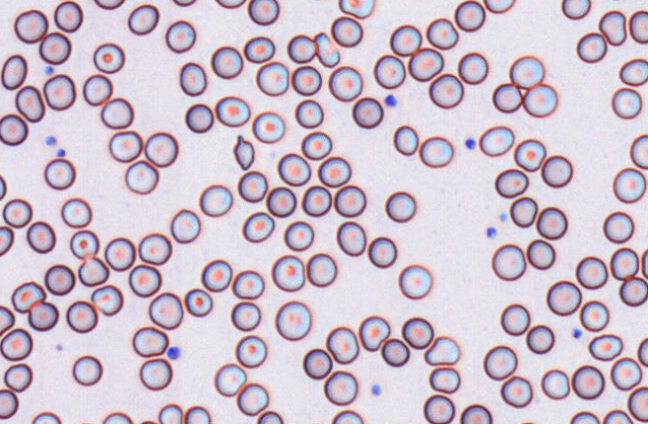PLT: (383, 93, 398, 109), (43, 132, 58, 147), (484, 224, 498, 239), (167, 346, 182, 360), (371, 382, 383, 398), (464, 137, 477, 151), (572, 327, 582, 338), (56, 149, 66, 159), (43, 67, 55, 75)
RBC: (275, 300, 311, 340), (148, 291, 183, 329), (491, 243, 526, 280), (271, 254, 305, 291), (42, 73, 76, 110), (326, 326, 359, 364), (124, 159, 159, 194), (546, 280, 581, 315), (428, 73, 463, 108), (483, 344, 517, 380), (612, 167, 646, 203), (407, 47, 443, 81), (144, 131, 178, 167), (328, 65, 362, 101), (323, 370, 357, 405), (398, 264, 432, 299), (13, 9, 48, 43), (522, 83, 557, 117), (255, 61, 289, 96), (277, 152, 311, 186), (571, 364, 604, 399), (509, 55, 544, 88), (358, 315, 390, 351), (214, 95, 250, 127), (575, 255, 608, 289), (38, 31, 71, 65), (128, 263, 161, 297), (210, 45, 243, 79), (373, 54, 405, 89), (418, 135, 453, 167), (132, 326, 168, 357), (478, 125, 514, 156), (15, 85, 45, 122), (199, 184, 232, 217), (43, 157, 76, 190), (333, 184, 366, 217), (138, 232, 171, 265), (540, 154, 573, 187), (139, 357, 172, 390), (610, 356, 642, 390), (236, 382, 268, 416), (235, 334, 267, 368), (100, 97, 134, 129), (108, 130, 142, 162), (306, 252, 337, 287), (104, 236, 135, 271), (598, 9, 627, 46), (214, 363, 246, 396), (0, 327, 32, 360), (66, 300, 98, 333), (514, 138, 546, 171), (425, 17, 458, 49), (602, 210, 634, 243), (389, 24, 422, 56), (317, 156, 351, 187), (165, 19, 196, 53), (336, 221, 366, 256), (170, 208, 200, 243), (500, 375, 532, 407), (401, 316, 433, 348), (384, 190, 416, 222), (127, 3, 159, 35), (351, 96, 383, 128), (330, 15, 362, 47), (252, 111, 284, 143), (90, 284, 123, 315), (201, 259, 232, 292), (536, 206, 567, 239), (457, 51, 488, 84), (494, 168, 528, 198), (77, 255, 109, 286), (242, 211, 274, 242), (92, 42, 124, 73), (576, 31, 607, 63), (611, 87, 642, 119), (60, 197, 92, 228), (231, 269, 264, 299), (26, 220, 56, 253), (0, 54, 27, 90), (283, 220, 314, 251), (454, 0, 485, 31), (44, 264, 75, 295), (500, 303, 530, 335), (53, 0, 83, 32), (367, 236, 397, 268), (237, 170, 267, 202), (82, 73, 112, 105), (72, 354, 102, 386), (610, 247, 639, 280), (179, 61, 206, 96), (27, 301, 58, 331), (302, 348, 332, 379), (579, 300, 609, 331), (266, 186, 296, 217), (301, 185, 331, 216), (230, 301, 261, 331), (492, 82, 522, 113), (423, 394, 455, 423), (526, 238, 555, 270), (588, 333, 622, 360), (69, 229, 99, 259), (2, 198, 32, 228), (291, 65, 321, 95), (540, 368, 569, 399), (301, 131, 332, 160), (0, 113, 28, 145), (243, 35, 275, 63), (525, 324, 554, 354), (3, 362, 32, 392), (184, 103, 213, 133), (509, 196, 537, 227), (428, 366, 460, 393), (380, 337, 409, 366), (287, 34, 316, 63), (294, 99, 323, 128), (619, 276, 647, 306), (184, 288, 212, 317), (247, 0, 279, 25), (619, 58, 647, 86), (393, 124, 418, 155), (627, 386, 647, 422), (338, 0, 374, 19), (460, 403, 492, 423), (629, 134, 647, 169), (628, 10, 647, 43), (0, 388, 18, 419), (561, 0, 590, 19), (183, 405, 210, 423), (158, 403, 182, 423), (0, 304, 15, 335), (331, 409, 363, 423), (0, 225, 14, 256), (602, 409, 633, 423), (483, 0, 515, 13), (569, 410, 599, 423), (102, 411, 133, 423), (31, 411, 61, 423), (256, 410, 283, 423), (637, 337, 647, 366), (93, 0, 125, 9), (215, 0, 245, 8), (641, 248, 647, 278), (0, 173, 6, 200), (172, 0, 197, 6), (139, 419, 159, 424), (515, 420, 536, 424), (72, 421, 95, 424)
Schistocyte: (11, 281, 47, 313), (424, 336, 460, 366), (314, 32, 341, 68), (232, 133, 256, 170)
